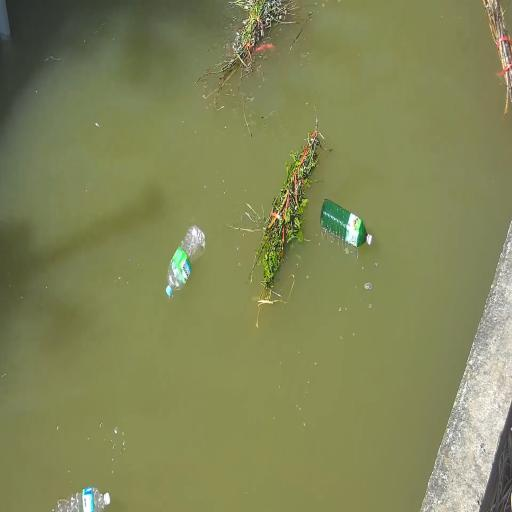plastic: (159, 219, 208, 302), (322, 192, 376, 250), (50, 476, 119, 512)
twig: (250, 120, 321, 292), (216, 0, 295, 84), (478, 0, 512, 111)
